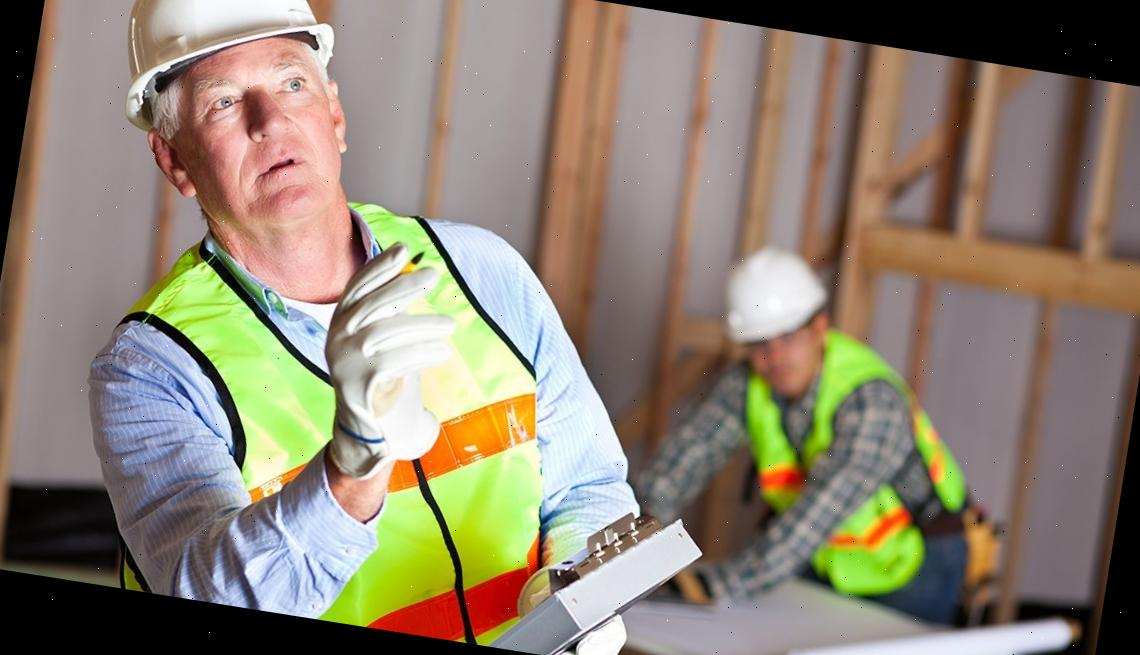helmet: (108, 0, 348, 161), (714, 238, 832, 362)
wear: (74, 217, 596, 654), (722, 366, 980, 604)
